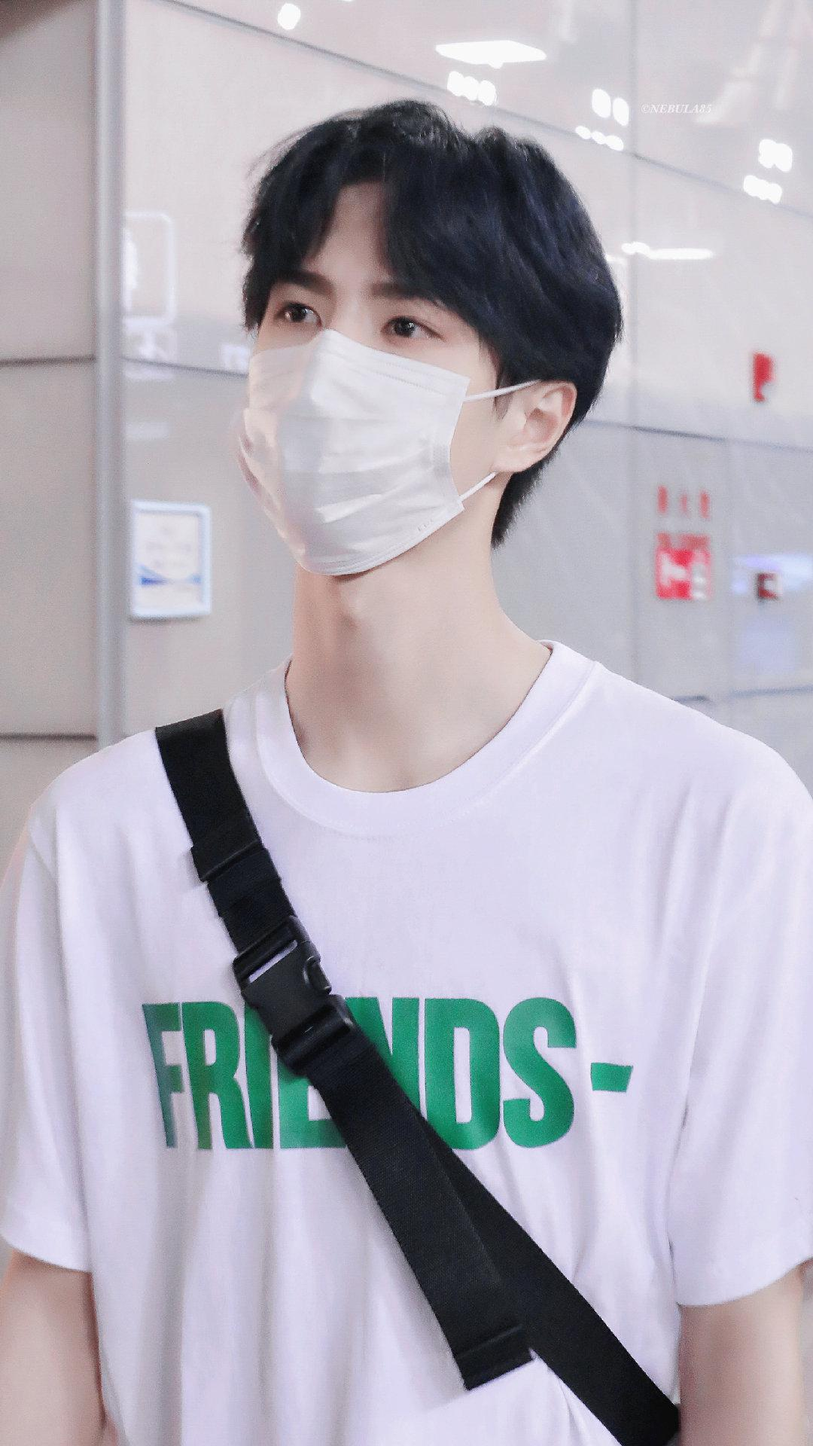OK: (242, 231, 489, 563)
